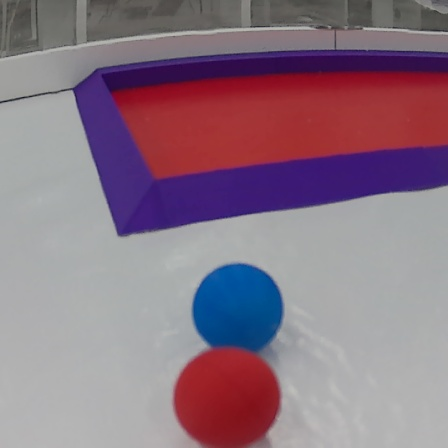blue: (191, 262, 286, 354)
red: (169, 346, 281, 448)
red_aim: (68, 45, 448, 238)
